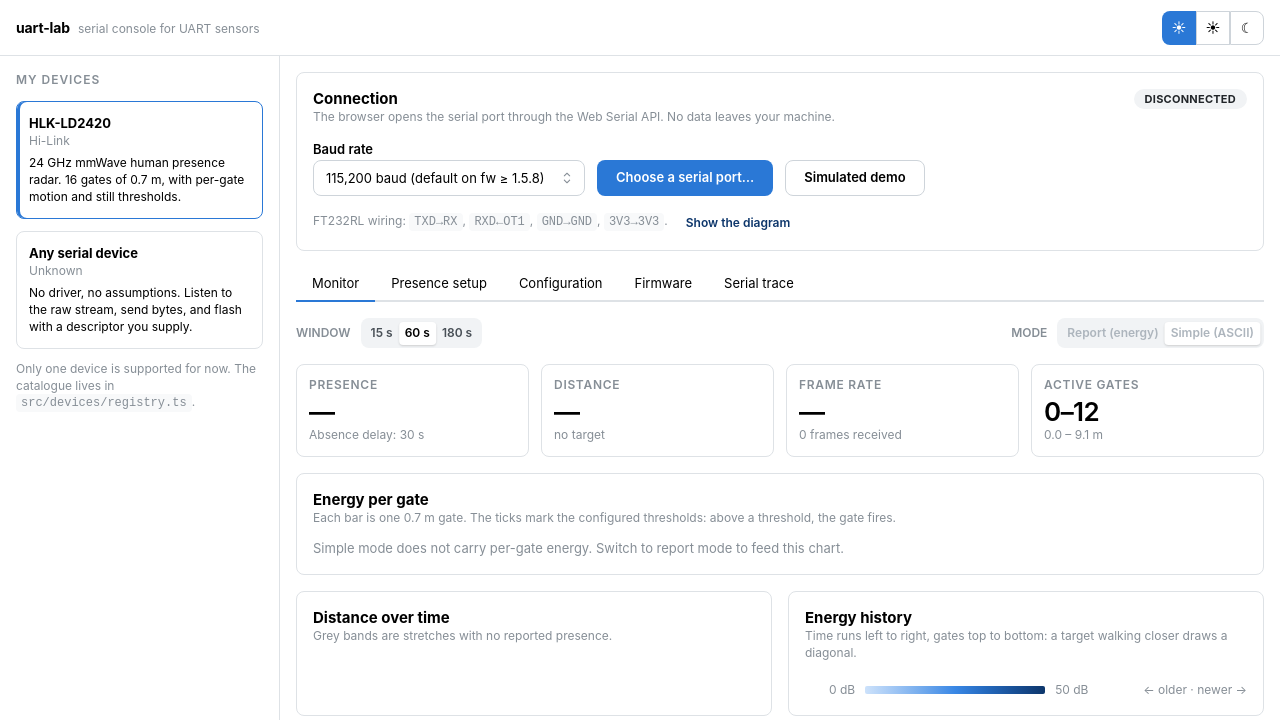
Test case: App › warns that configuration needs a connection
Click the tab "Configuration".
click(561, 284)  # box [503,267,619,302]
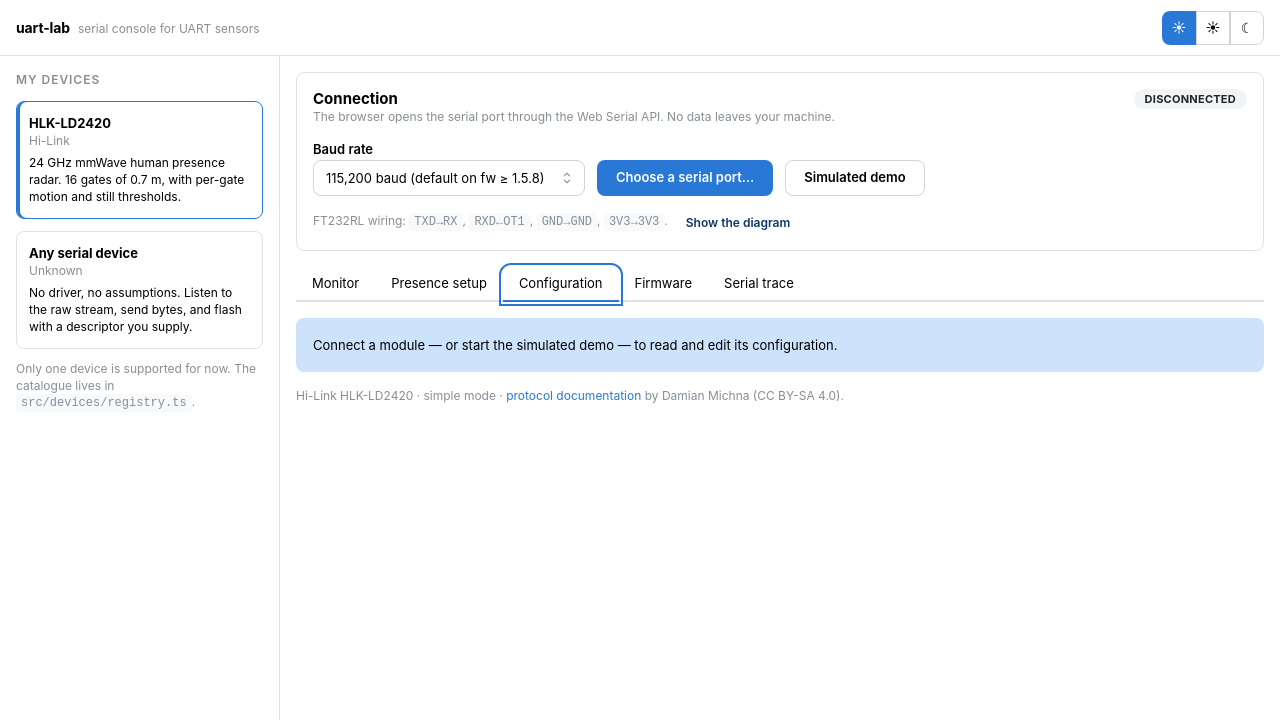
Expected: the text "Connect a module" is shown, [313,337,838,353]
